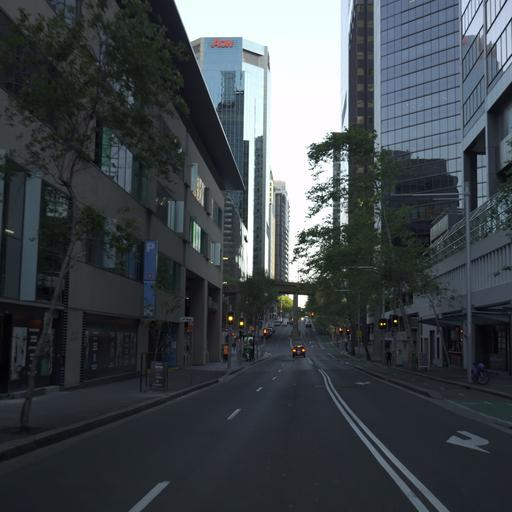Street light: (385, 189, 474, 387), (352, 263, 399, 365), (226, 309, 234, 368), (226, 311, 233, 324), (238, 318, 244, 329)
